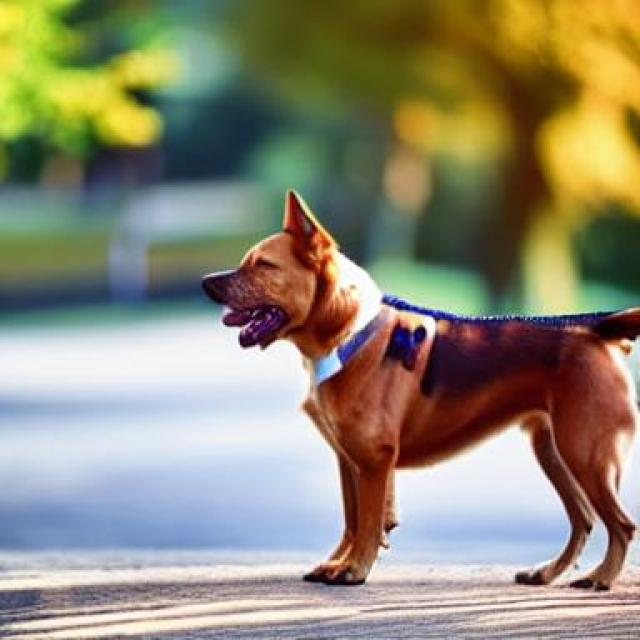Dog: (200, 186, 640, 594)
